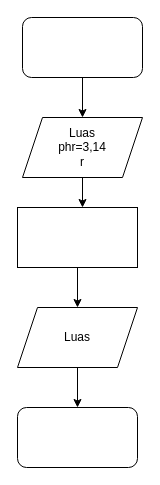
Image size: 160x485. Some labels were removed from this diagram. The shapes that lost their labels are listed below. From the top down, each one's box as (x1, y1, x2, y2) in pixels, then its label:
(22, 16, 142, 78): mulai
(16, 206, 138, 268): Luas=phi*r*r
